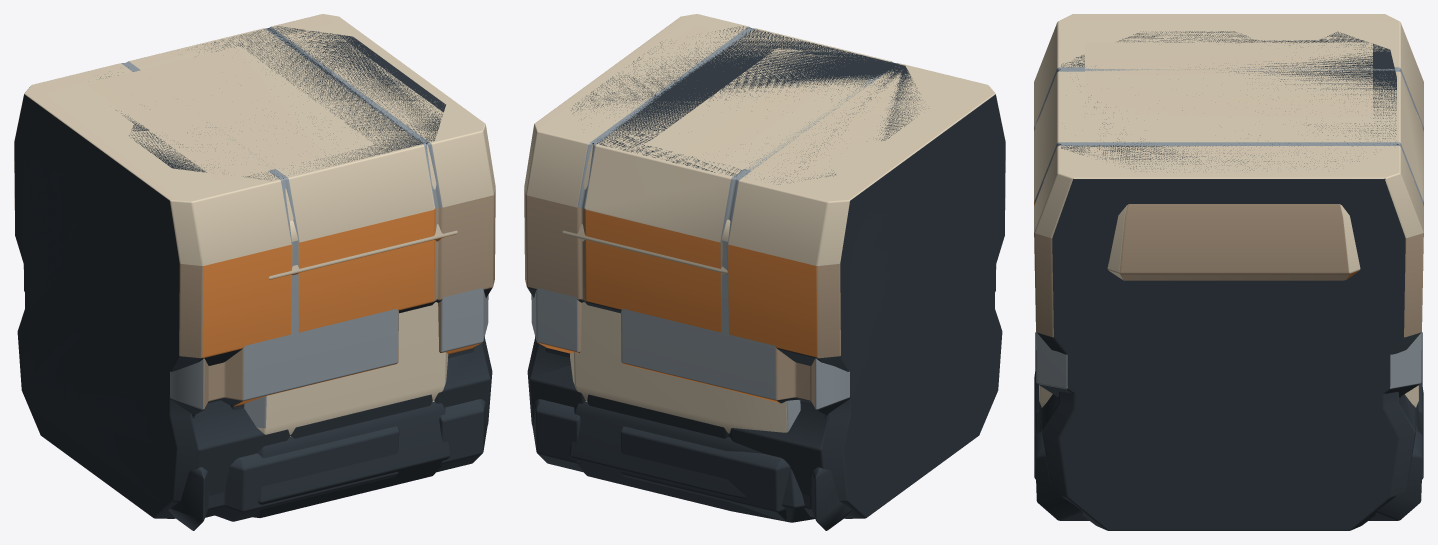
Rendered from RelayStructure.fbx.
The picture shows the model from 3 angles, left to right: view 1: azimuth 30°, elevation 25°; view 2: azimuth 150°, elevation 25°; view 3: azimuth 270°, elevation 25°; orthographic projection. The views are drawn at different scales.
Parts seen in each view (by area): view 1: ContinuousGantry_Mount, ContinuousBulkhead_Mount, ContinuousPylon_Mount; view 2: ContinuousGantry_Mount, ContinuousBulkhead_Mount, ContinuousPylon_Mount; view 3: ContinuousBulkhead_Mount, ContinuousGantry_Mount, ContinuousPylon_Mount.
Part boxes in pixels (<box>): ContinuousGantry_Mount: <box>14,14,495,518</box>; ContinuousBulkhead_Mount: <box>23,25,488,530</box>; ContinuousPylon_Mount: <box>100,26,457,517</box>; ContinuousGantry_Mount: <box>524,14,1005,518</box>; ContinuousBulkhead_Mount: <box>531,25,996,530</box>; ContinuousPylon_Mount: <box>562,26,920,522</box>; ContinuousBulkhead_Mount: <box>1035,42,1422,520</box>; ContinuousGantry_Mount: <box>1034,14,1423,530</box>; ContinuousPylon_Mount: <box>1034,31,1423,479</box>.
Bounding box in the file's own units: 1.02 × 1 × 1.
